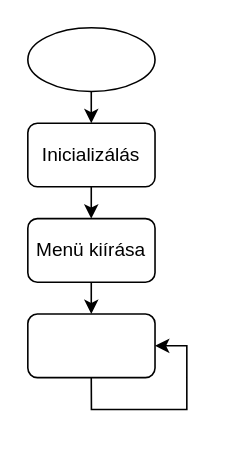
This 227x450 diagram has some shape labels left out. The centre of each missing label's shape, as x and y in pixels:
Menü frissítése: (x=90, y=345)
START: (x=90, y=58)
